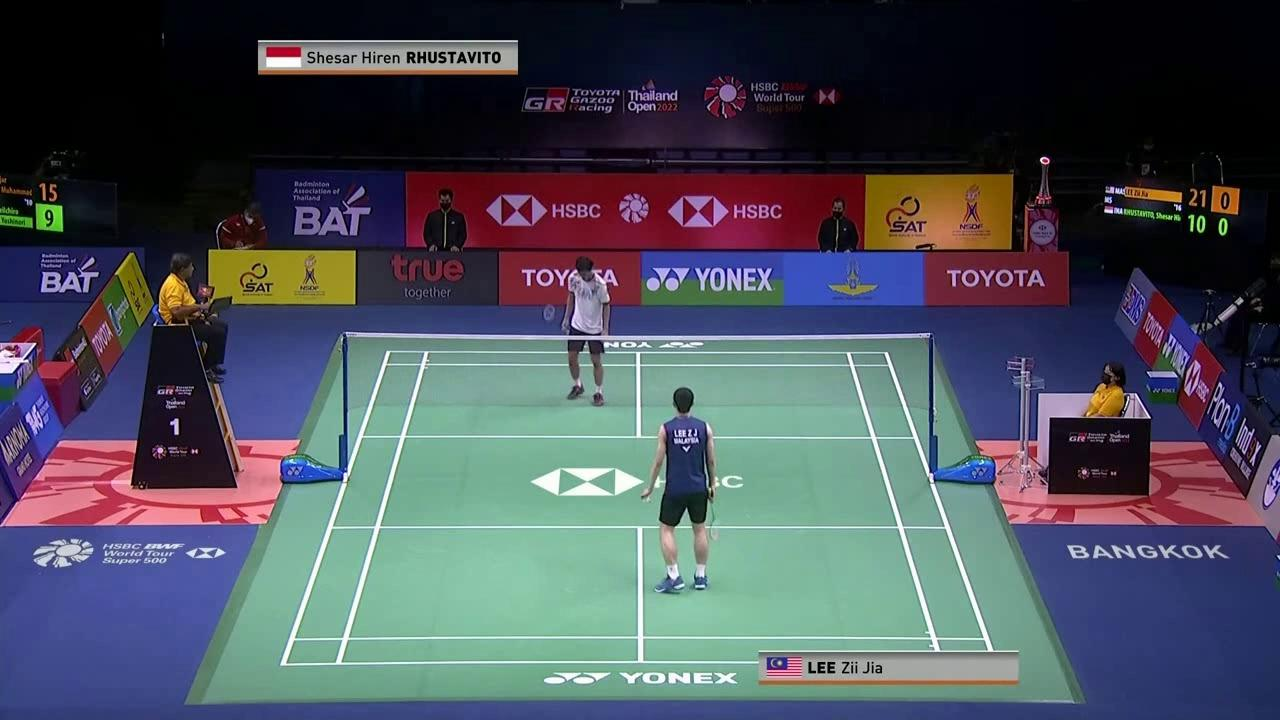racket: (541, 303, 572, 334), (709, 485, 722, 540)
shuttle: (641, 491, 652, 505)
